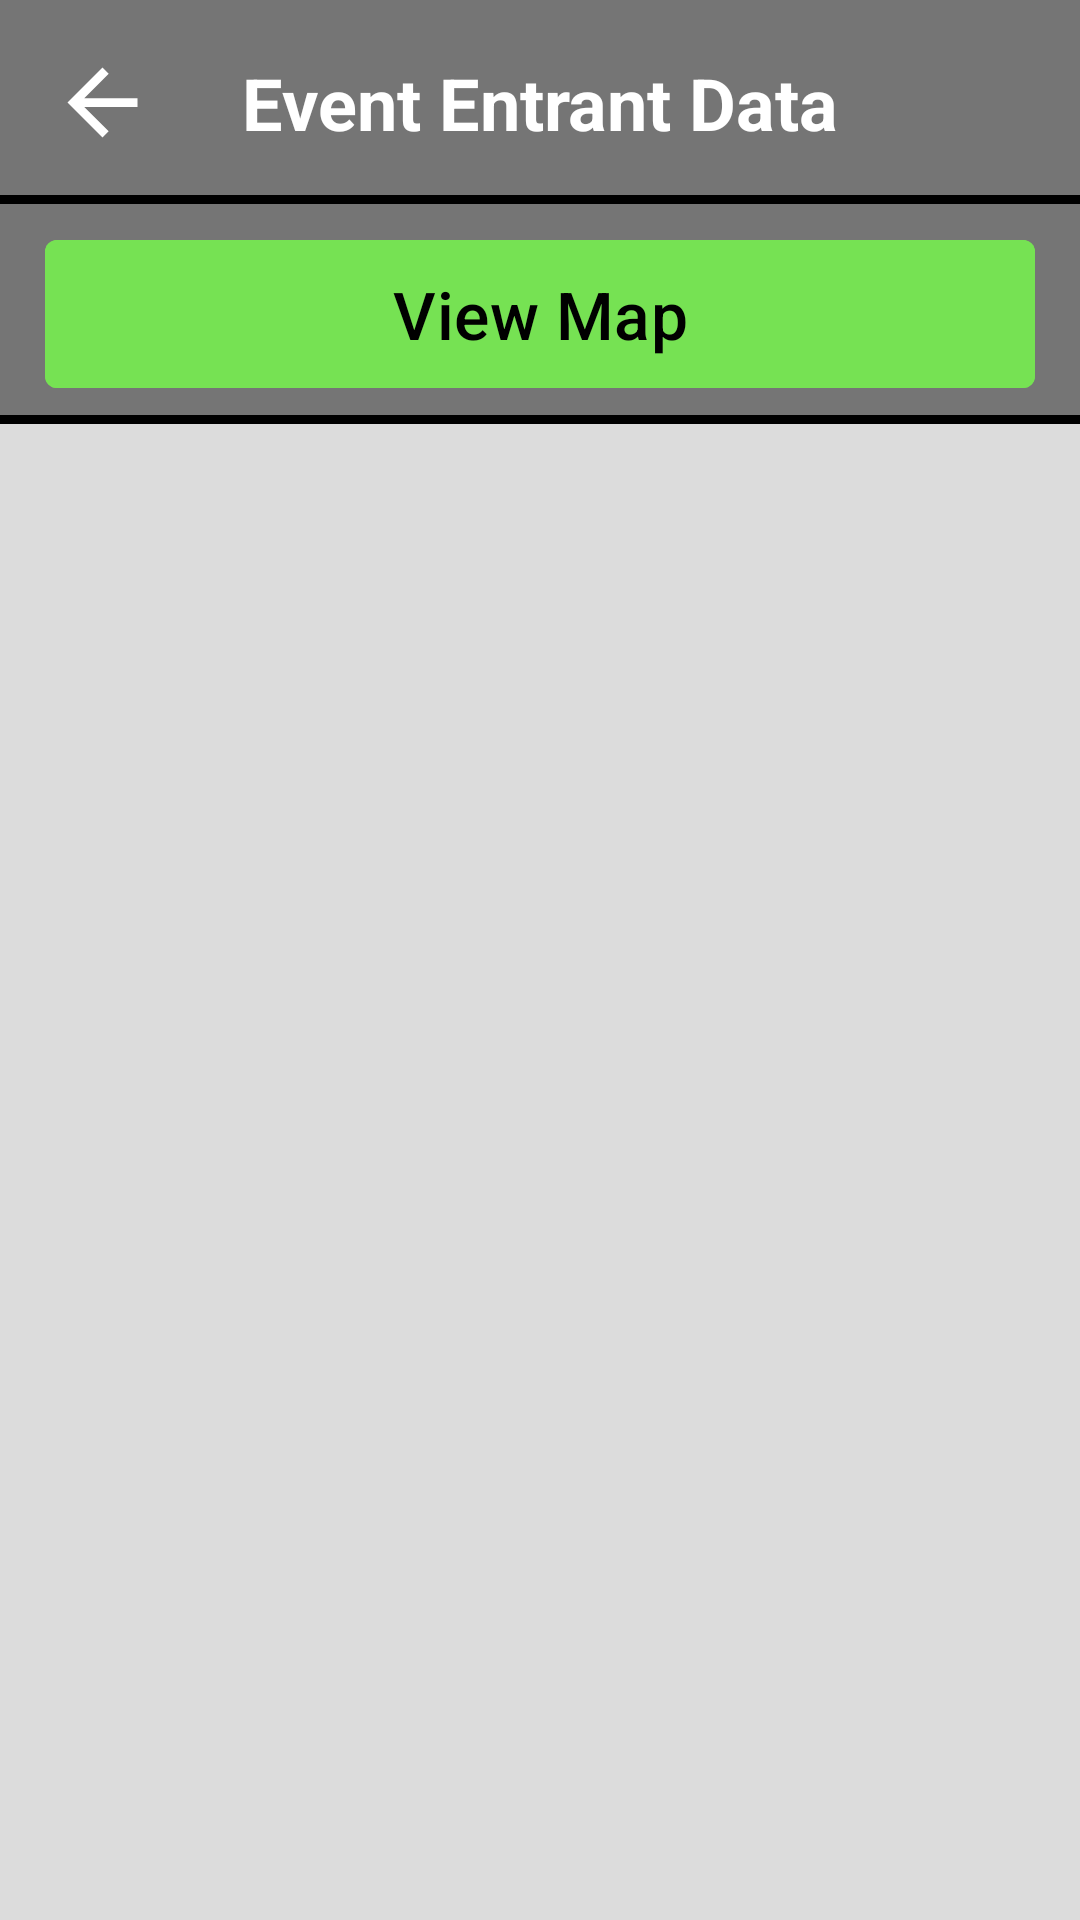

Icons on this 1080px×1920px Android screen, each with the point to tap as (x=x, y=y):
Go Back: (x=102, y=102)
